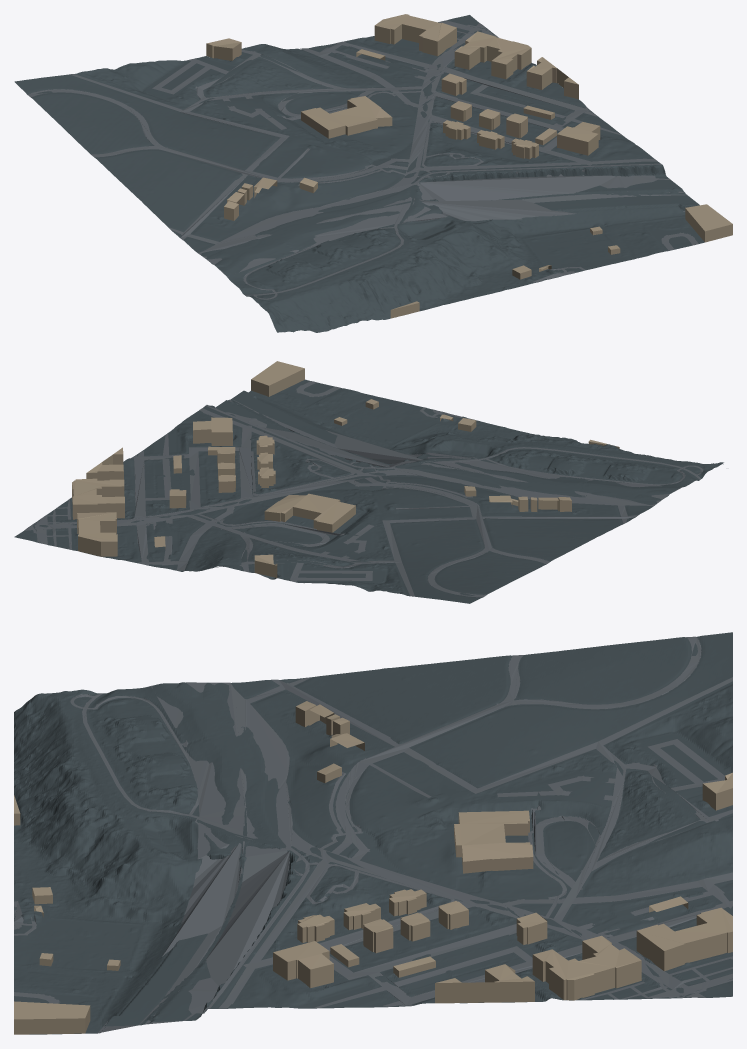
The model's file is epsg26910-1425-10895.lod0.glb.
3 renders of one model, top to bottom at view 1: azimuth 30°, elevation 25°; view 2: azimuth 150°, elevation 25°; view 3: azimuth 270°, elevation 25°, orthographic. The views are drawn at different scales.
Parts seen in each view (by area): view 1: epsg26910-1425-10895-lod0; view 2: epsg26910-1425-10895-lod0; view 3: epsg26910-1425-10895-lod0.
Boxes of the visible parts, x1,y1,x2,y2 form: epsg26910-1425-10895-lod0: (14, 14, 732, 332); epsg26910-1425-10895-lod0: (14, 361, 723, 603); epsg26910-1425-10895-lod0: (14, 632, 732, 1034).
Size of the model in its own units: 384 by 58.61 by 384.
